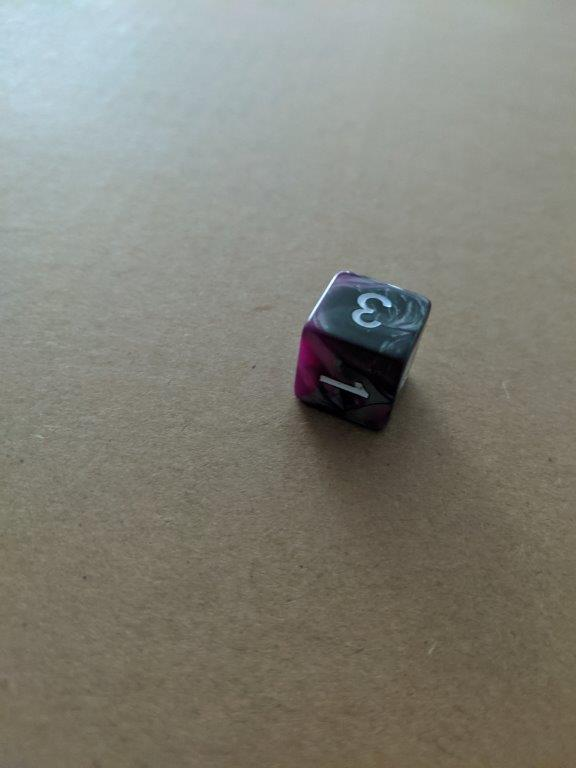d6-3: (292, 271, 430, 433)
